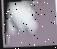dent: (1, 0, 57, 49)
